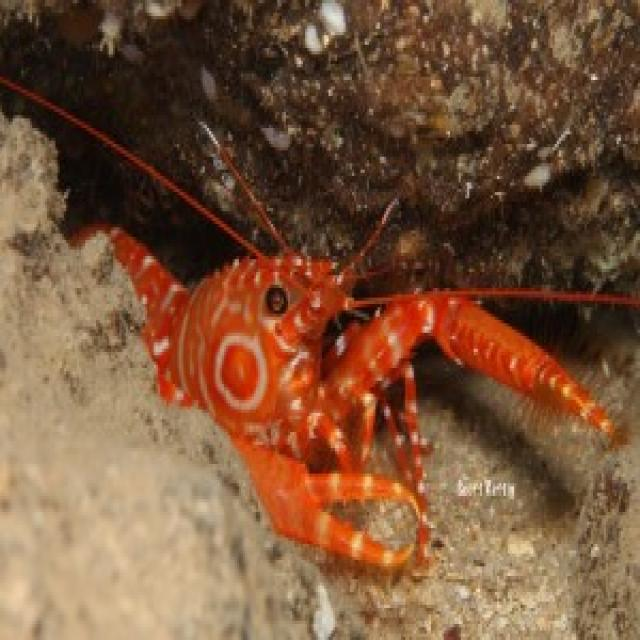lobsters: (50, 194, 590, 569)
